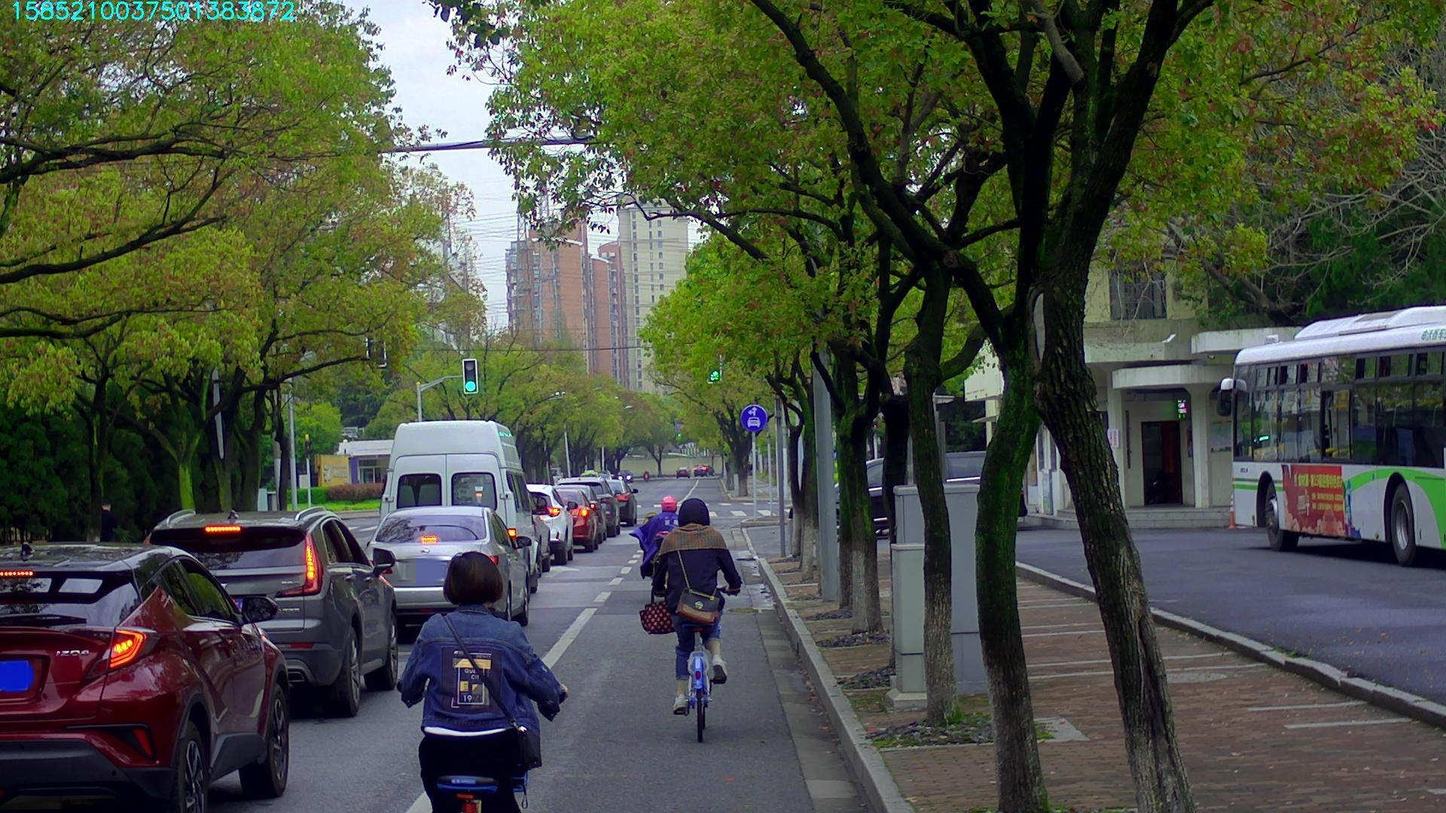green: (706, 346, 720, 383), (463, 359, 476, 392)
